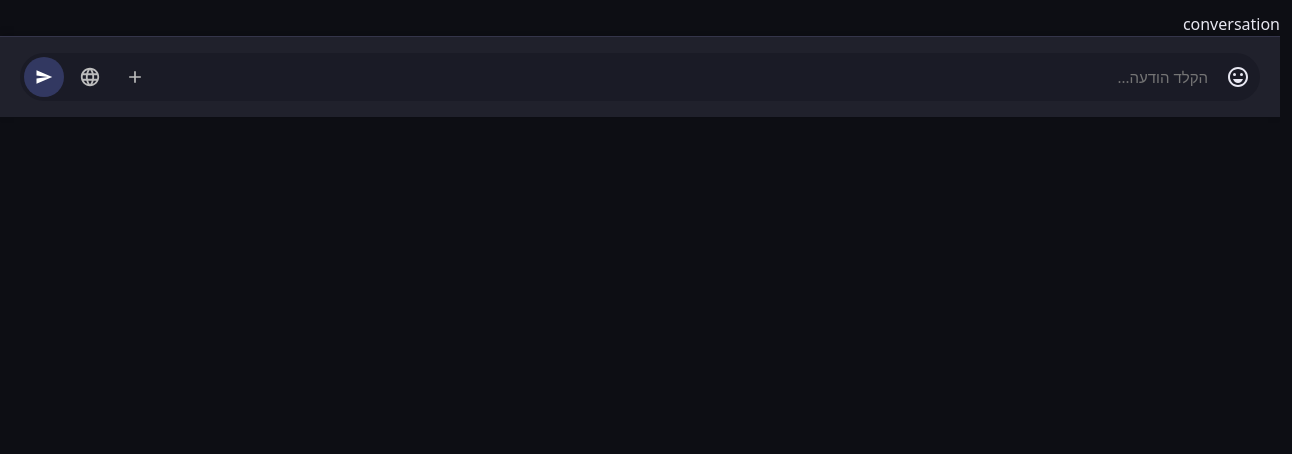
Test: composer emoji keyboard › opens the panel, shows the keyboard icon while it is open, and closes it again
Click the button named "אמוג'י". click: (1238, 77)
box: [1220,59,1256,95]
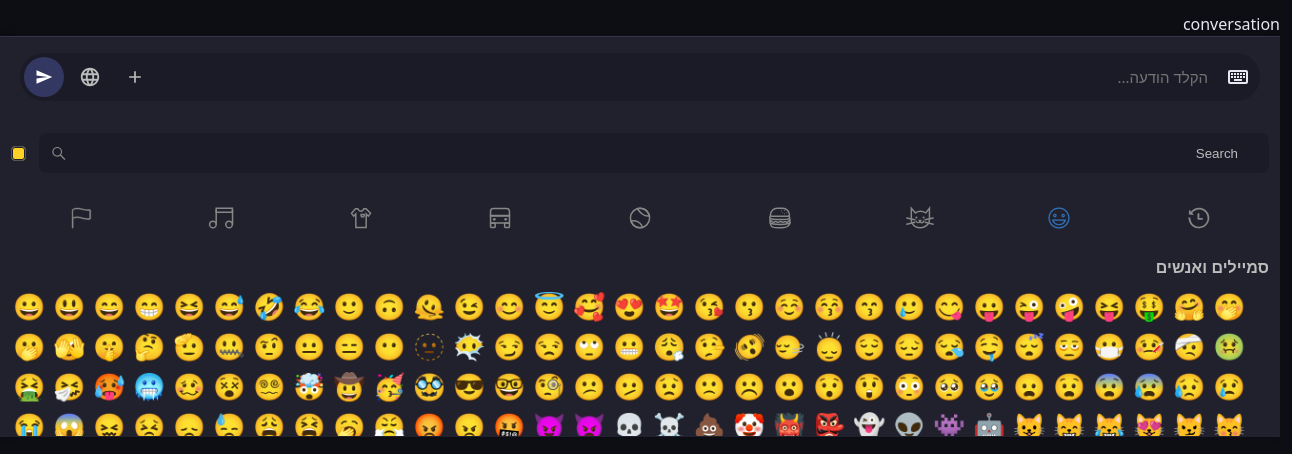
Expected: the button named "מקלדת" is expanded
Click the button named "מקלדת". click: (1238, 77)
box: [1220,59,1256,95]
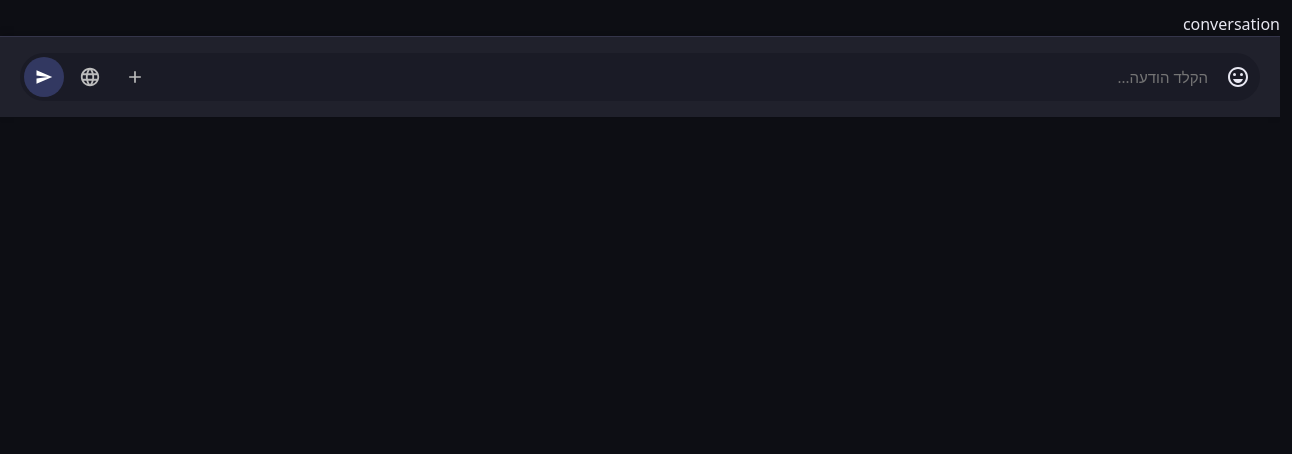
Expected: the element with test id "emoji-panel" is gone
Expected: the button named "אמוג'י" is shown, [1220,59,1256,95]
